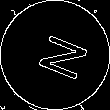N_W: (24, 27, 86, 83)
